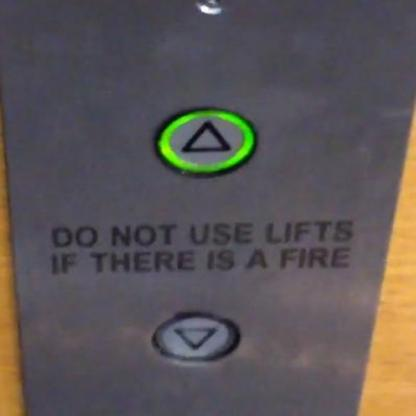down: (148, 308, 240, 363)
up: (152, 105, 258, 177)
